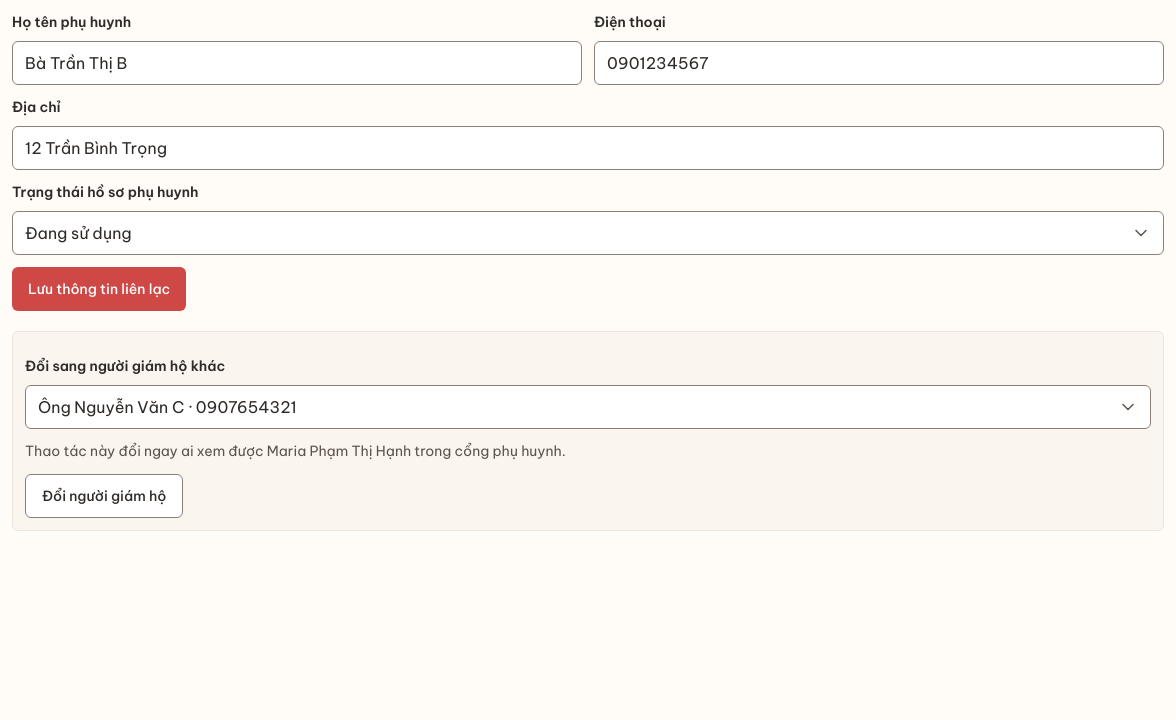
BR-M03-N15 · sửa được thông tin liên lạc (lỗi F12) › lưu là gửi ngay, KHÔNG hỏi — đây là thao tác thường ngày
The width and height of the screenshot is (1176, 720).
Replace the text in the field labelled "Điện thoại" with "0912000000": (879, 63) top-left (594, 41), bottom-right (1164, 85)
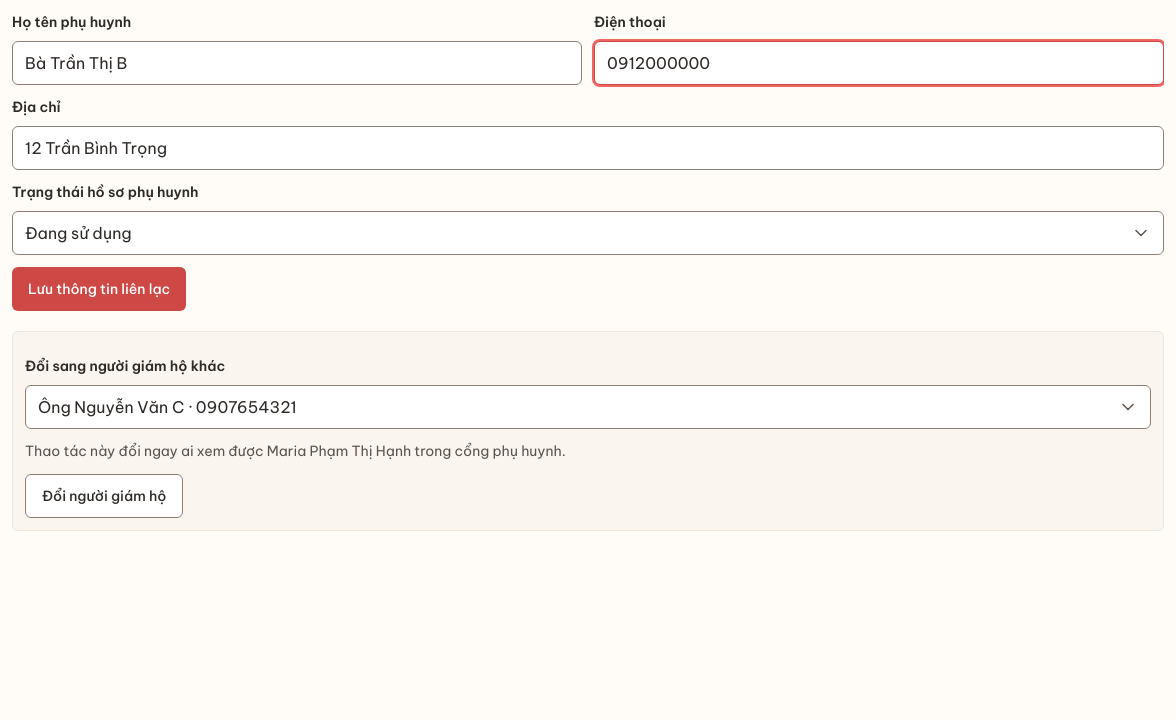
Click the button "Lưu thông tin liên lạc": (99, 289) top-left (12, 267), bottom-right (186, 311)
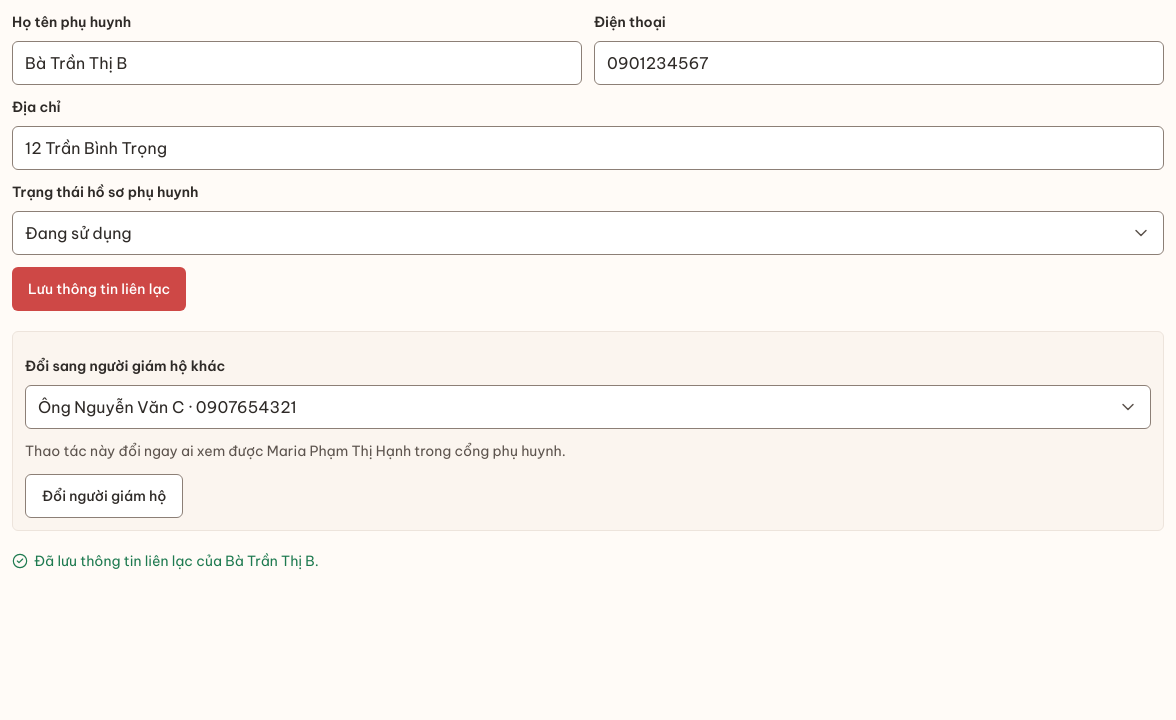
Expected: the message shows "Đã lưu thông tin liên lạc", top-left (34, 552), bottom-right (319, 570)
